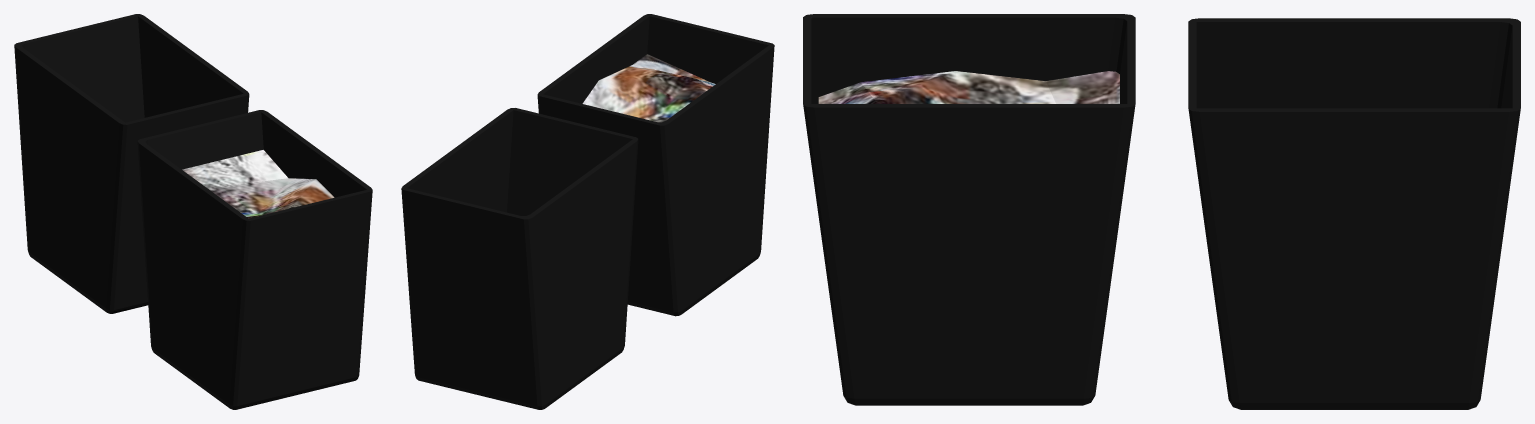
Rendered from TrashCans.fbx.
3 views of the same model, side by side, from view 1: azimuth 30°, elevation 25°; view 2: azimuth 150°, elevation 25°; view 3: azimuth 270°, elevation 25° (orthographic). The views are drawn at different scales.
Visible parts, largest first — view 1: Cube.024; view 2: Cube.024; view 3: Cube.024.
Boxes of the visible parts, x1=… form: Cube.024: x1=14, y1=14, x2=372, y2=409; Cube.024: x1=401, y1=14, x2=774, y2=409; Cube.024: x1=803, y1=14, x2=1520, y2=409.
Bounding box in the file's own units: 0.6478 × 0.2092 × 0.3.
Materials: 1 (1 with a texture image).
